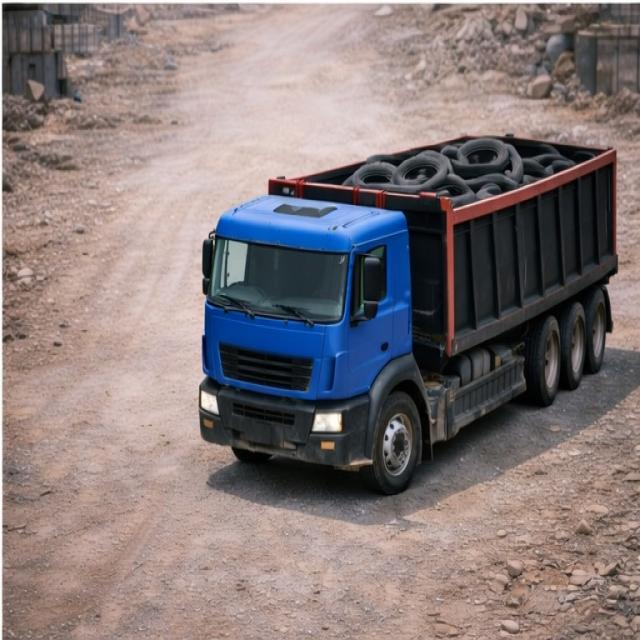trailer: (268, 128, 621, 222)
truck: (196, 111, 640, 501)
